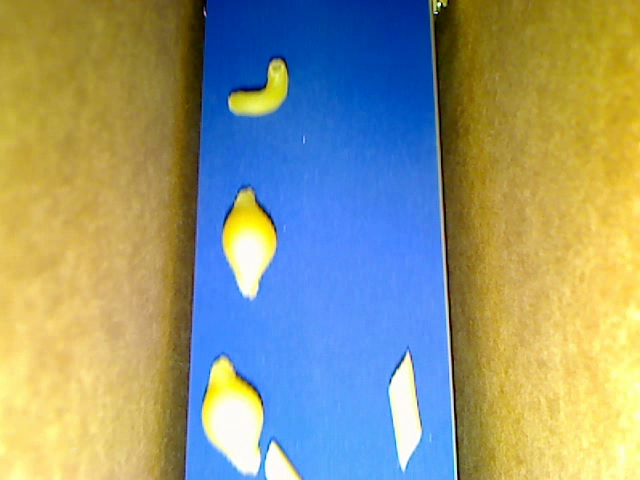elbow: (227, 59, 289, 116)
penne: (387, 349, 422, 472), (264, 439, 302, 479)
shell: (201, 352, 262, 475), (223, 184, 277, 300)
